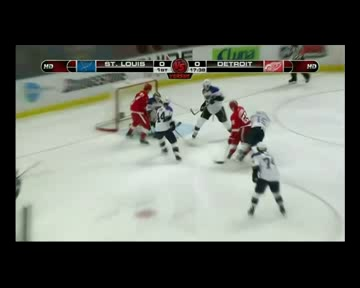normal: (241, 140, 288, 219), (221, 97, 269, 166), (189, 77, 238, 142)
